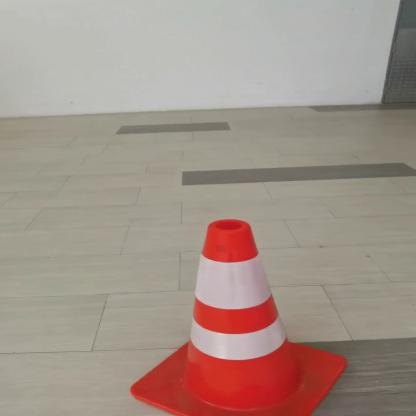cone: (127, 213, 356, 415)
